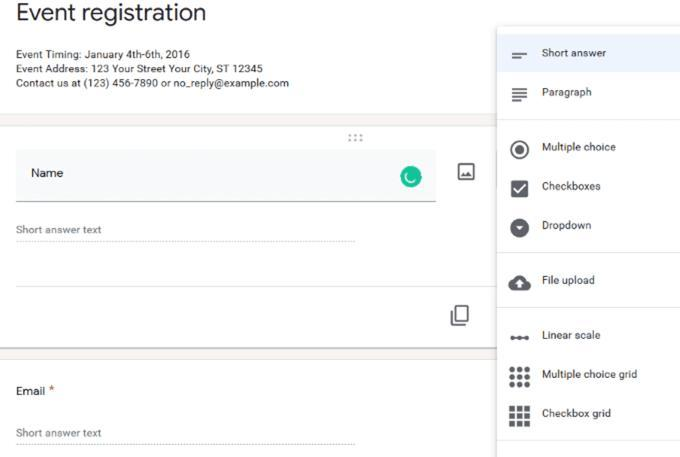icon: (506, 362, 534, 391), (509, 401, 535, 431), (448, 303, 472, 330), (453, 160, 481, 183), (509, 138, 532, 165), (506, 179, 532, 202), (509, 216, 532, 241), (509, 274, 532, 296), (509, 85, 534, 105), (507, 47, 530, 66), (508, 330, 532, 344)
label: (542, 366, 642, 384), (541, 405, 614, 423), (541, 140, 617, 154), (541, 47, 609, 61), (541, 329, 604, 343), (541, 179, 604, 193), (541, 84, 594, 100), (541, 218, 595, 232), (540, 274, 597, 287)
